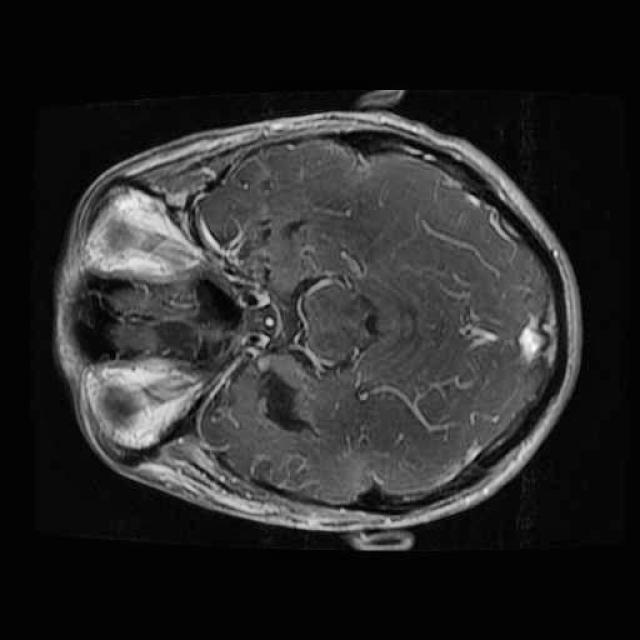Non-Tumor: (230, 338, 350, 460)
